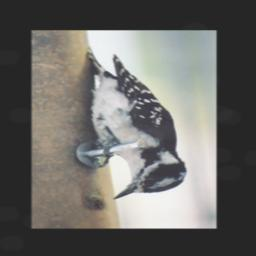Woodpecker: (76, 41, 191, 201)
